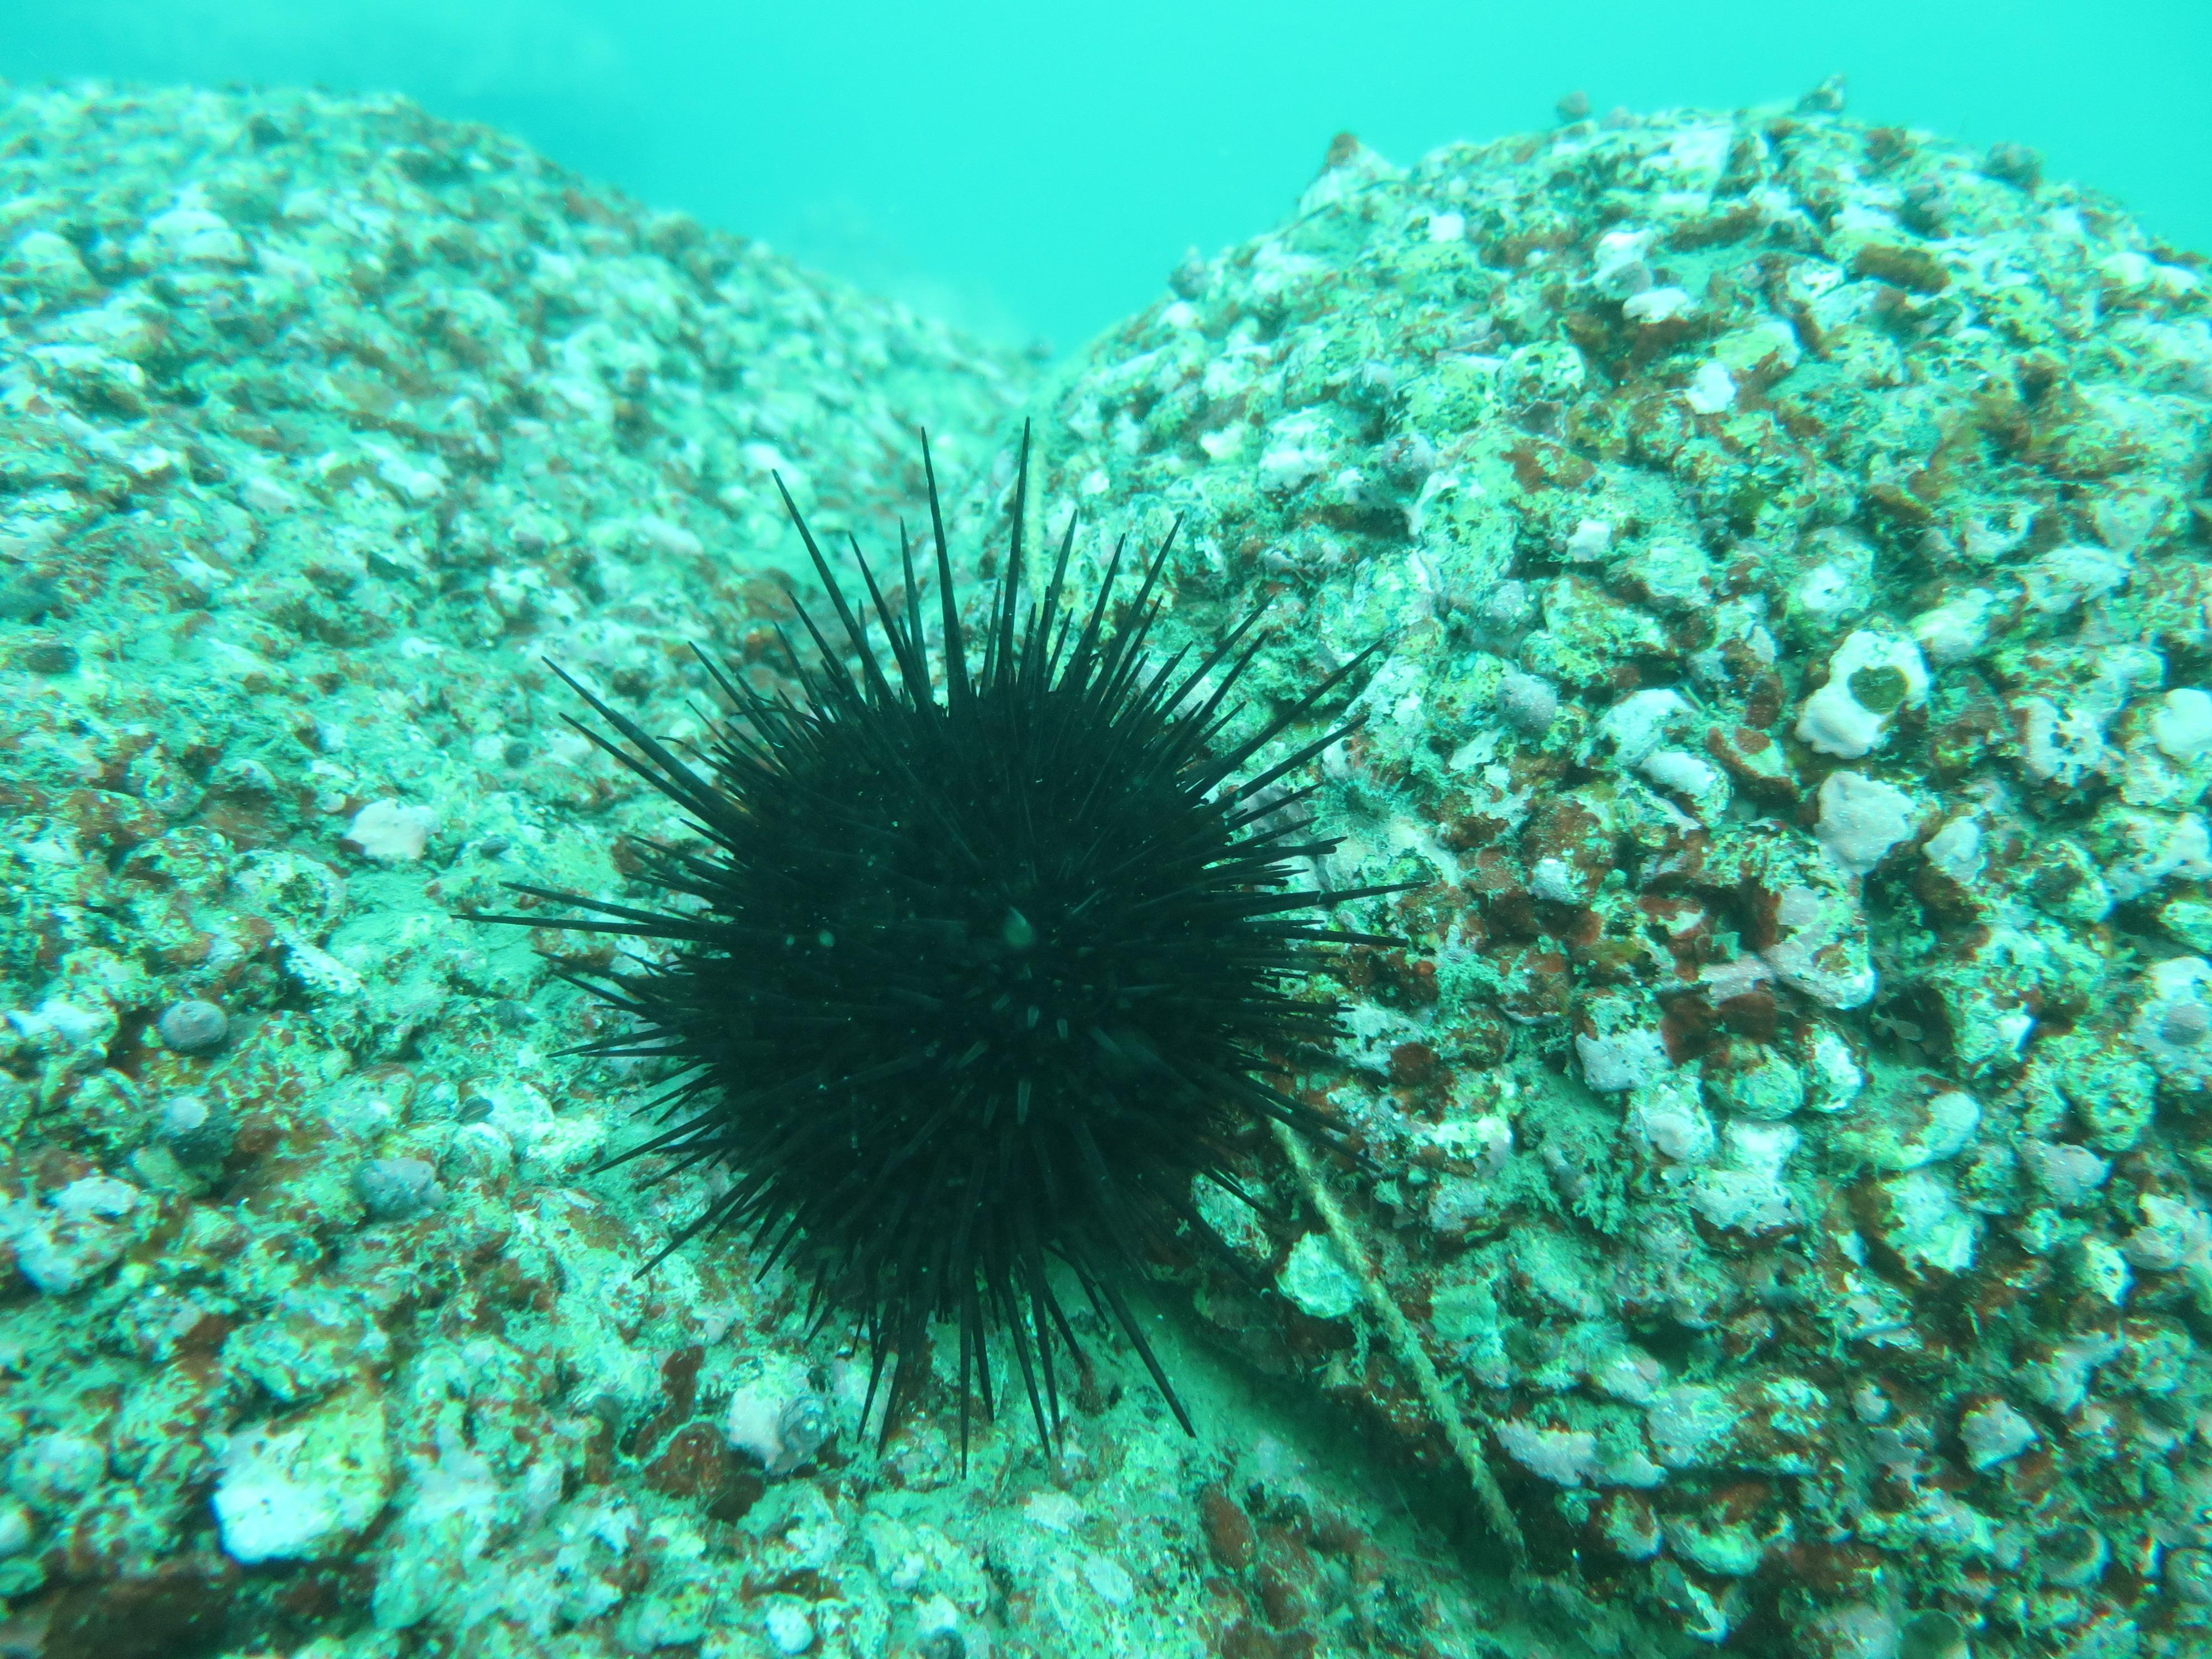urchin: (545, 399, 1430, 1460)
